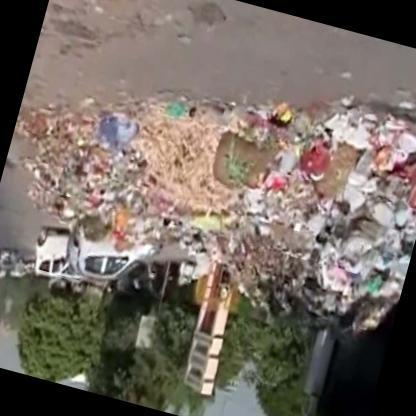Garbage: (293, 96, 415, 337), (190, 92, 342, 265), (95, 90, 222, 248), (88, 98, 150, 167)
